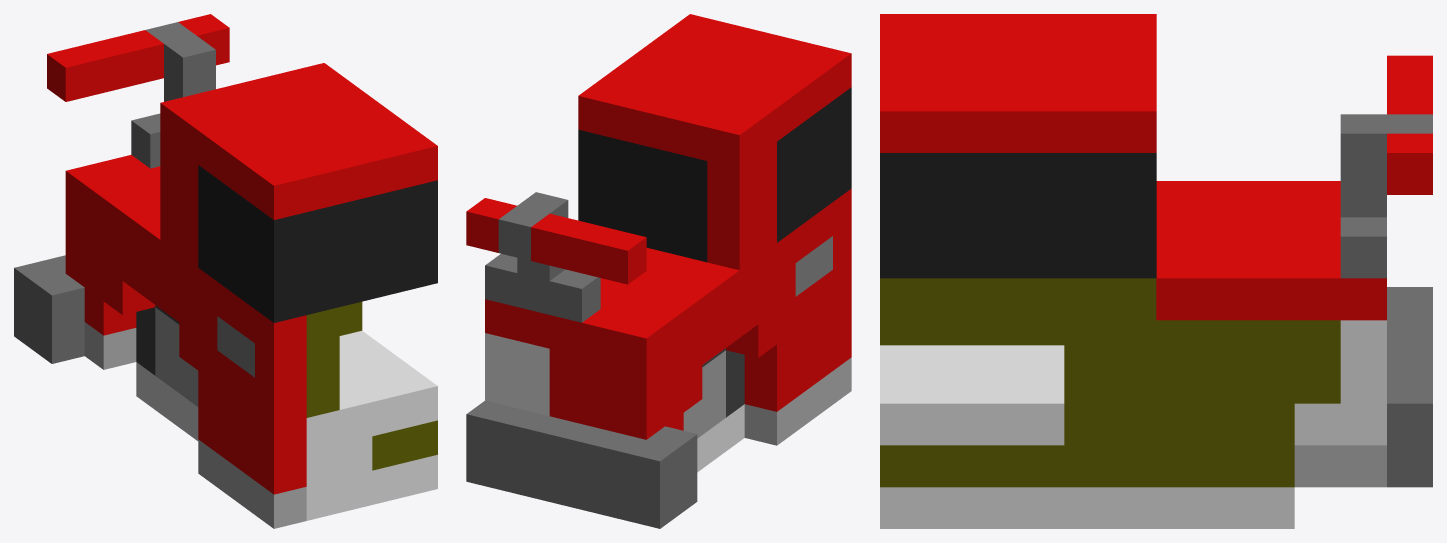
The model's file is redcarBottomRight.obj.
The picture shows the model from 3 angles, left to right: view 1: azimuth 30°, elevation 25°; view 2: azimuth 150°, elevation 25°; view 3: azimuth 270°, elevation 25°; orthographic projection. The views are drawn at different scales.
Bounding box in the file's own units: 0.6 × 1 × 1.2.
Materials: 1 (1 with a texture image).
